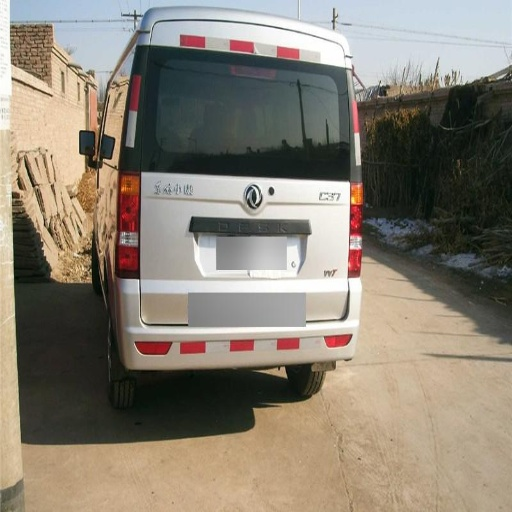back_bumper: (113, 279, 361, 365)
tailgate: (189, 155, 346, 291)
trunk: (117, 172, 350, 324)
